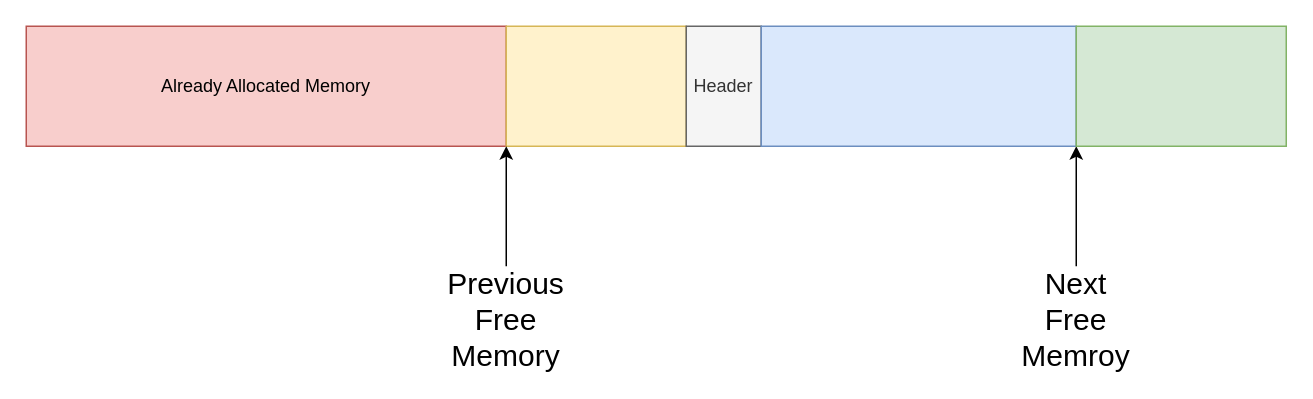
The diagram is 1313 pixels wide and 399 high, and some of its shapes have lost their labels. Each missing label, with the box of its shape:
New Memory to be allocated: (760, 25, 1076, 146)
Padding: (505, 25, 686, 146)
